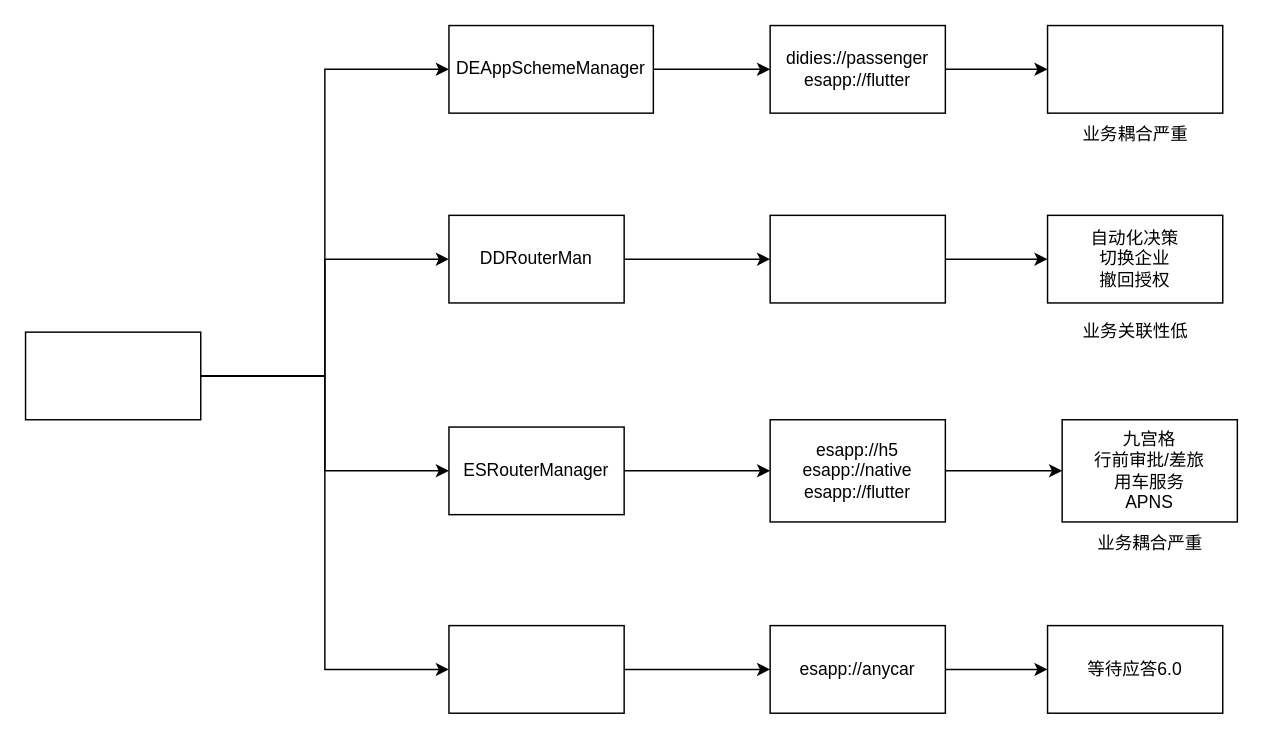
The diagram is 1263 pixels wide and 739 high, and some of its shapes have lost their labels. Here are the shapes that lost their labels. From the top down, the centre of each, then its label:
At (1134,68): "一键报警 机酒火".
At (857,258): "esapp://h5 esapp://native".
At (112,375): "现有 Router".
At (535,668): "ONERouter".
